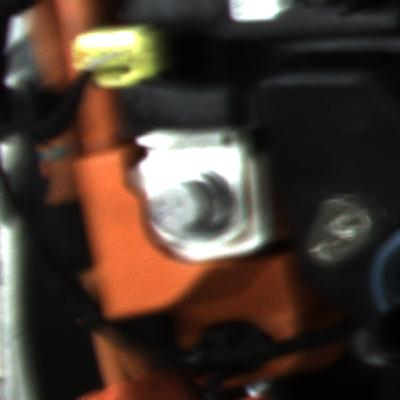nut_b: (141, 170, 244, 249)
